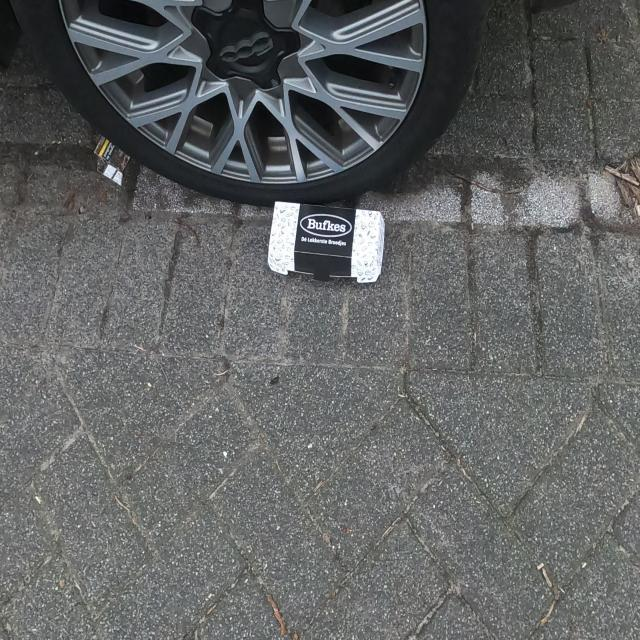Paper: (266, 200, 386, 285), (93, 134, 135, 187)
